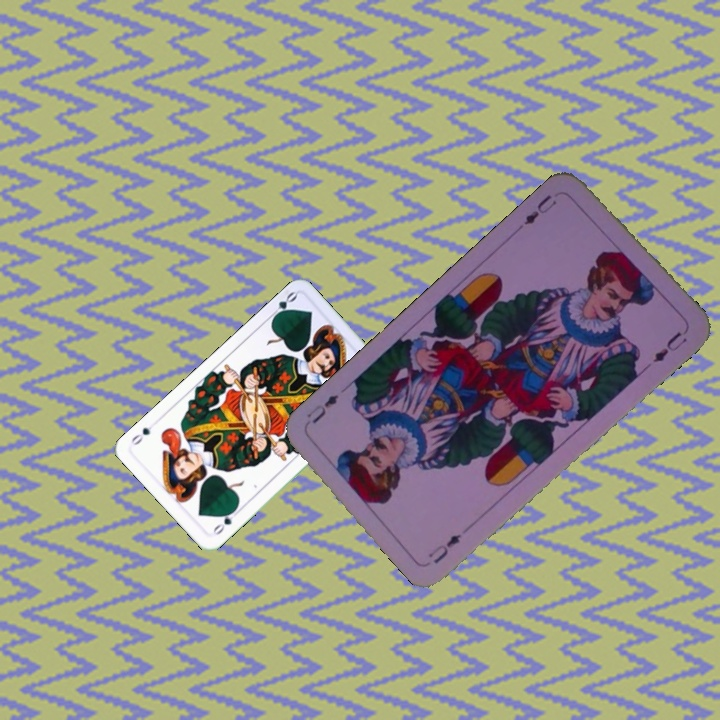EU: (423, 529, 464, 567), (519, 190, 559, 228)
GO: (265, 288, 300, 323), (209, 504, 239, 538)
